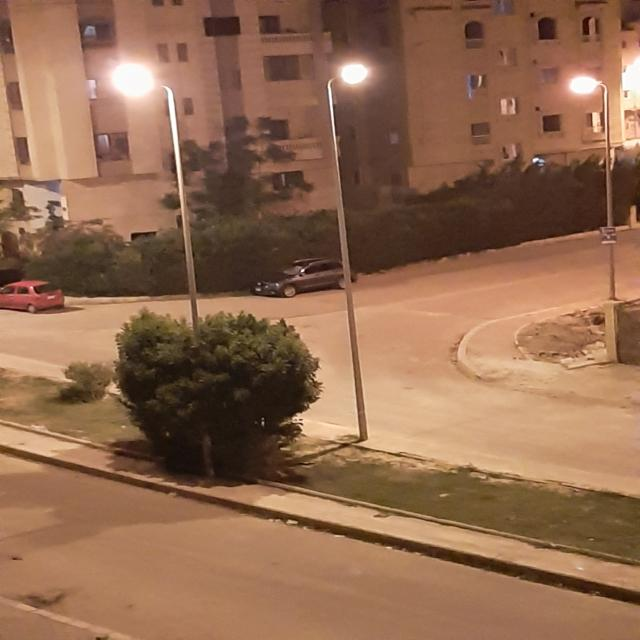Street Light: (109, 61, 200, 382), (324, 62, 375, 440), (567, 76, 618, 298)
